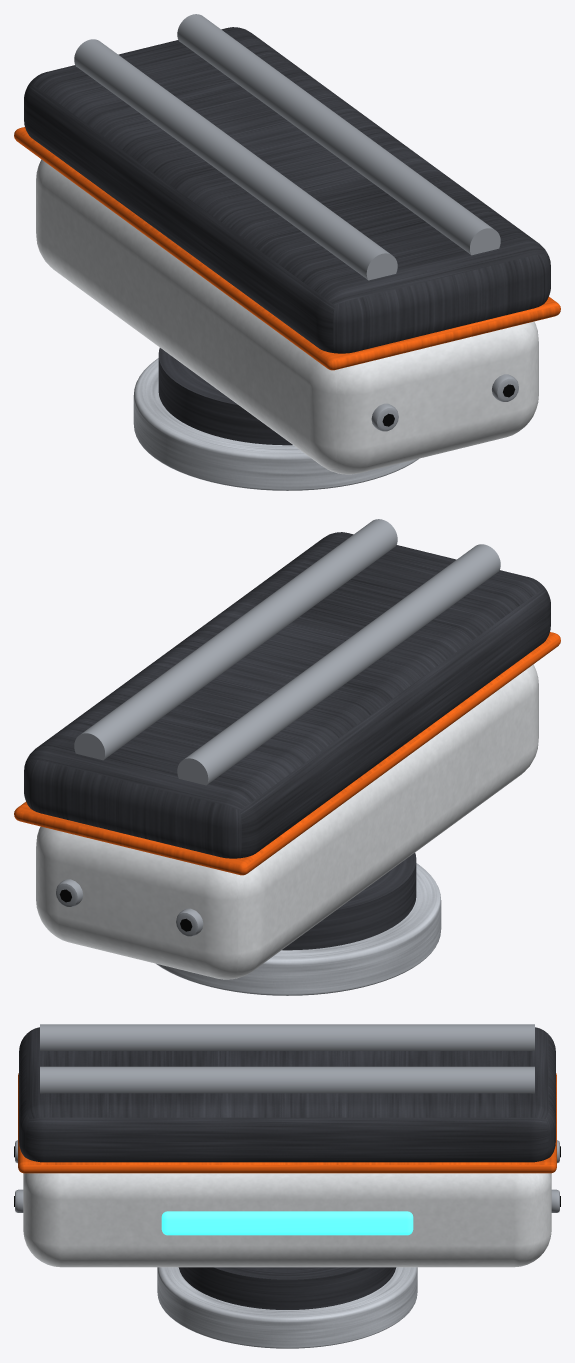
The model's file is gripper_base.dae.
3 views of the same model, one above another, from view 1: azimuth 30°, elevation 25°; view 2: azimuth 150°, elevation 25°; view 3: azimuth 270°, elevation 25° (orthographic). The views are drawn at different scales.
Visible parts, largest first — view 1: gripper_base; view 2: gripper_base; view 3: gripper_base.
Part boxes in pixels (x1,y1,x2,y2): gripper_base: (14,14,560,490); gripper_base: (14,519,560,995); gripper_base: (14,1024,560,1348).
Size of the model in its own units: 0.062 by 0.1304 by 0.0651.
Materials: 7 (4 with a texture image).
